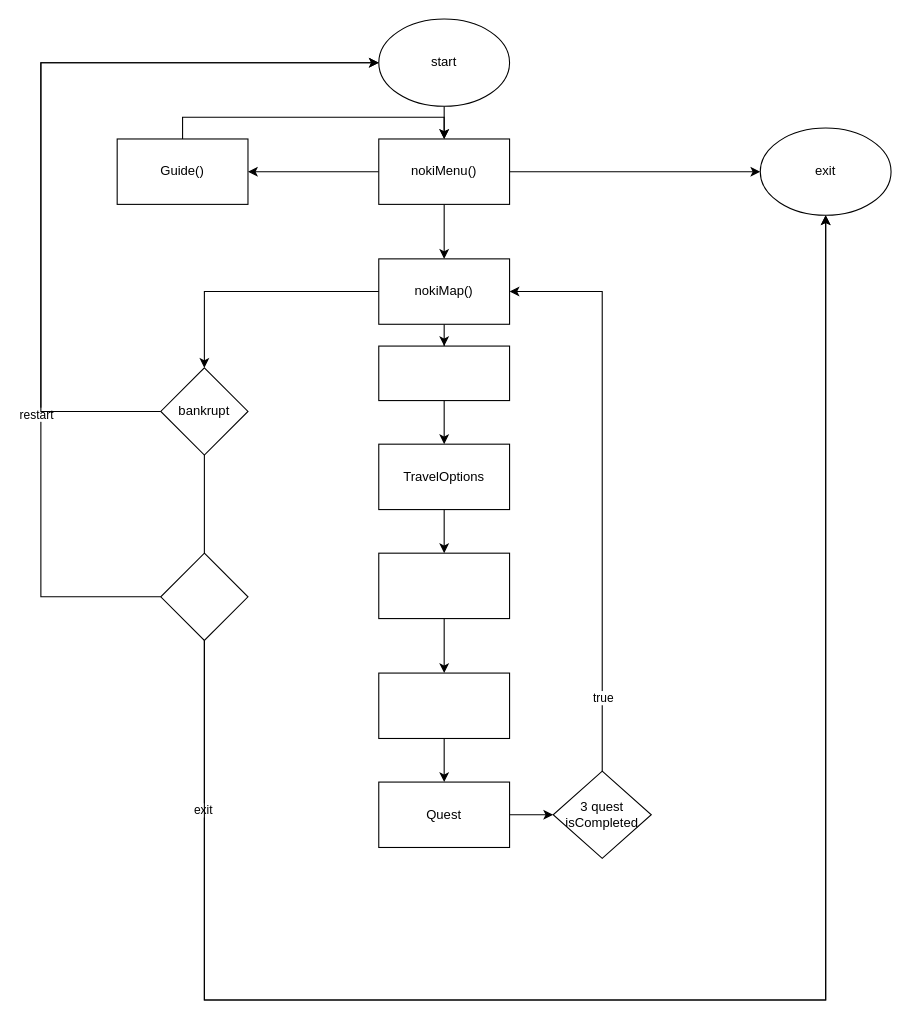
Some shapes in this 910 by 1028 pixel diagram are drawn without their labels. The shapes that lost their labels are listed below. From the top down, each one's centre as x and y in pixels, then its label:
At pixel 444 373: "Countries".
At pixel 204 596: "5 countries visited".
At pixel 444 585: "Building".
At pixel 444 705: "Npc".
